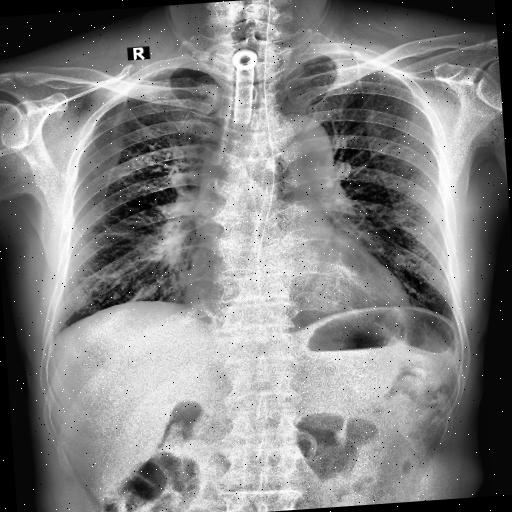0- Aortic enlargement: (247, 112, 337, 192), (252, 111, 336, 177), (264, 113, 335, 185)
11- Pleural thickening: (138, 65, 192, 79), (148, 62, 192, 78)
3- Cardiomegaly: (184, 252, 414, 342), (186, 247, 410, 336), (182, 264, 414, 348)
